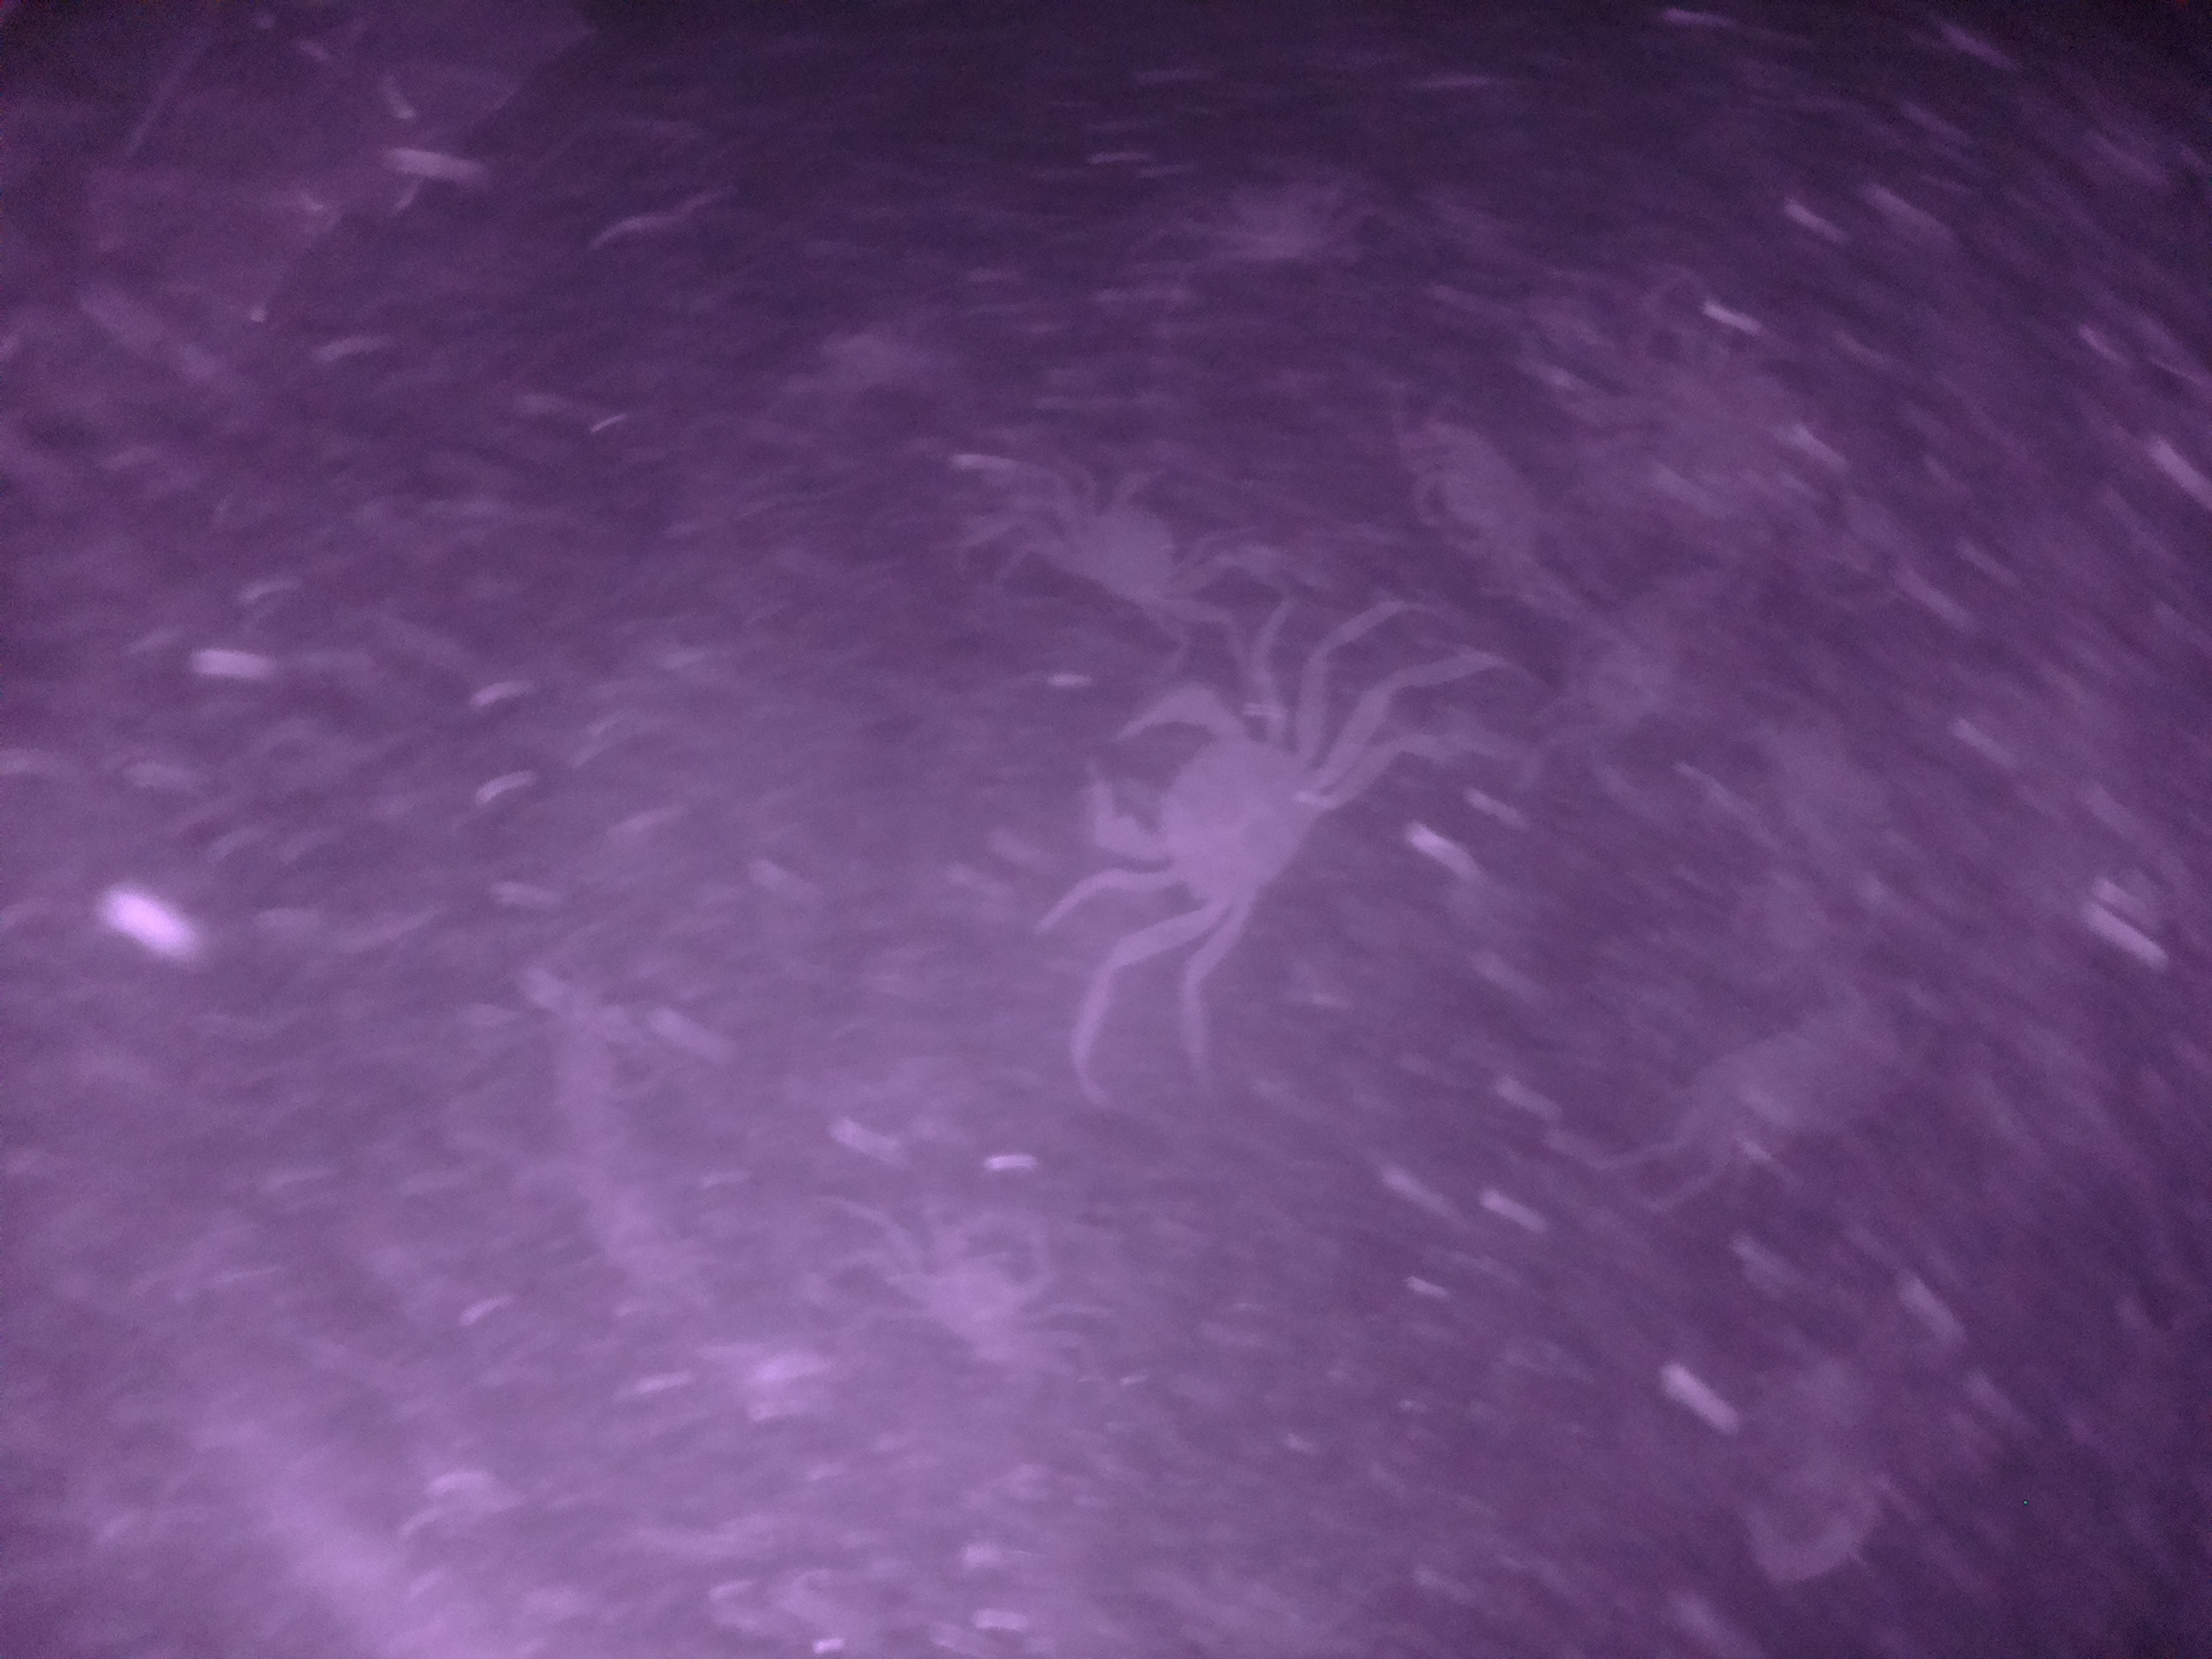Crab: (1068, 647, 1350, 974), (899, 1175, 1092, 1378), (1035, 448, 1226, 638), (1397, 401, 1575, 570)
